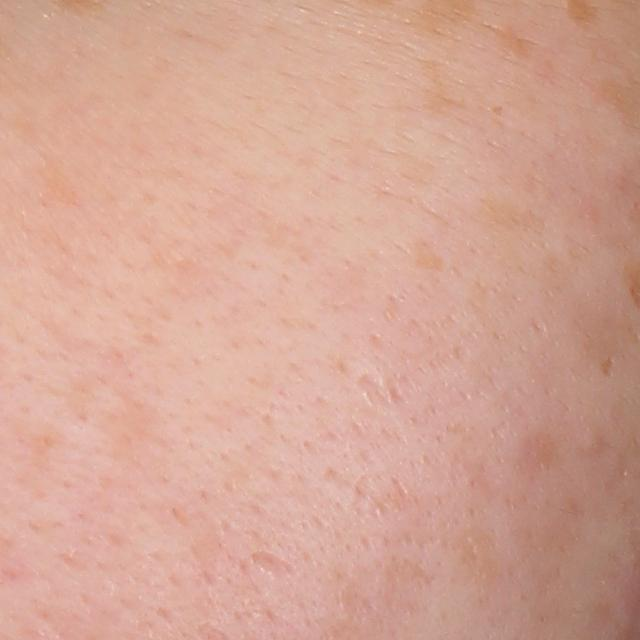atrophic_scar: (357, 366, 396, 417), (248, 548, 300, 583)
melasma: (475, 194, 555, 243), (423, 55, 463, 121), (472, 22, 531, 64)
